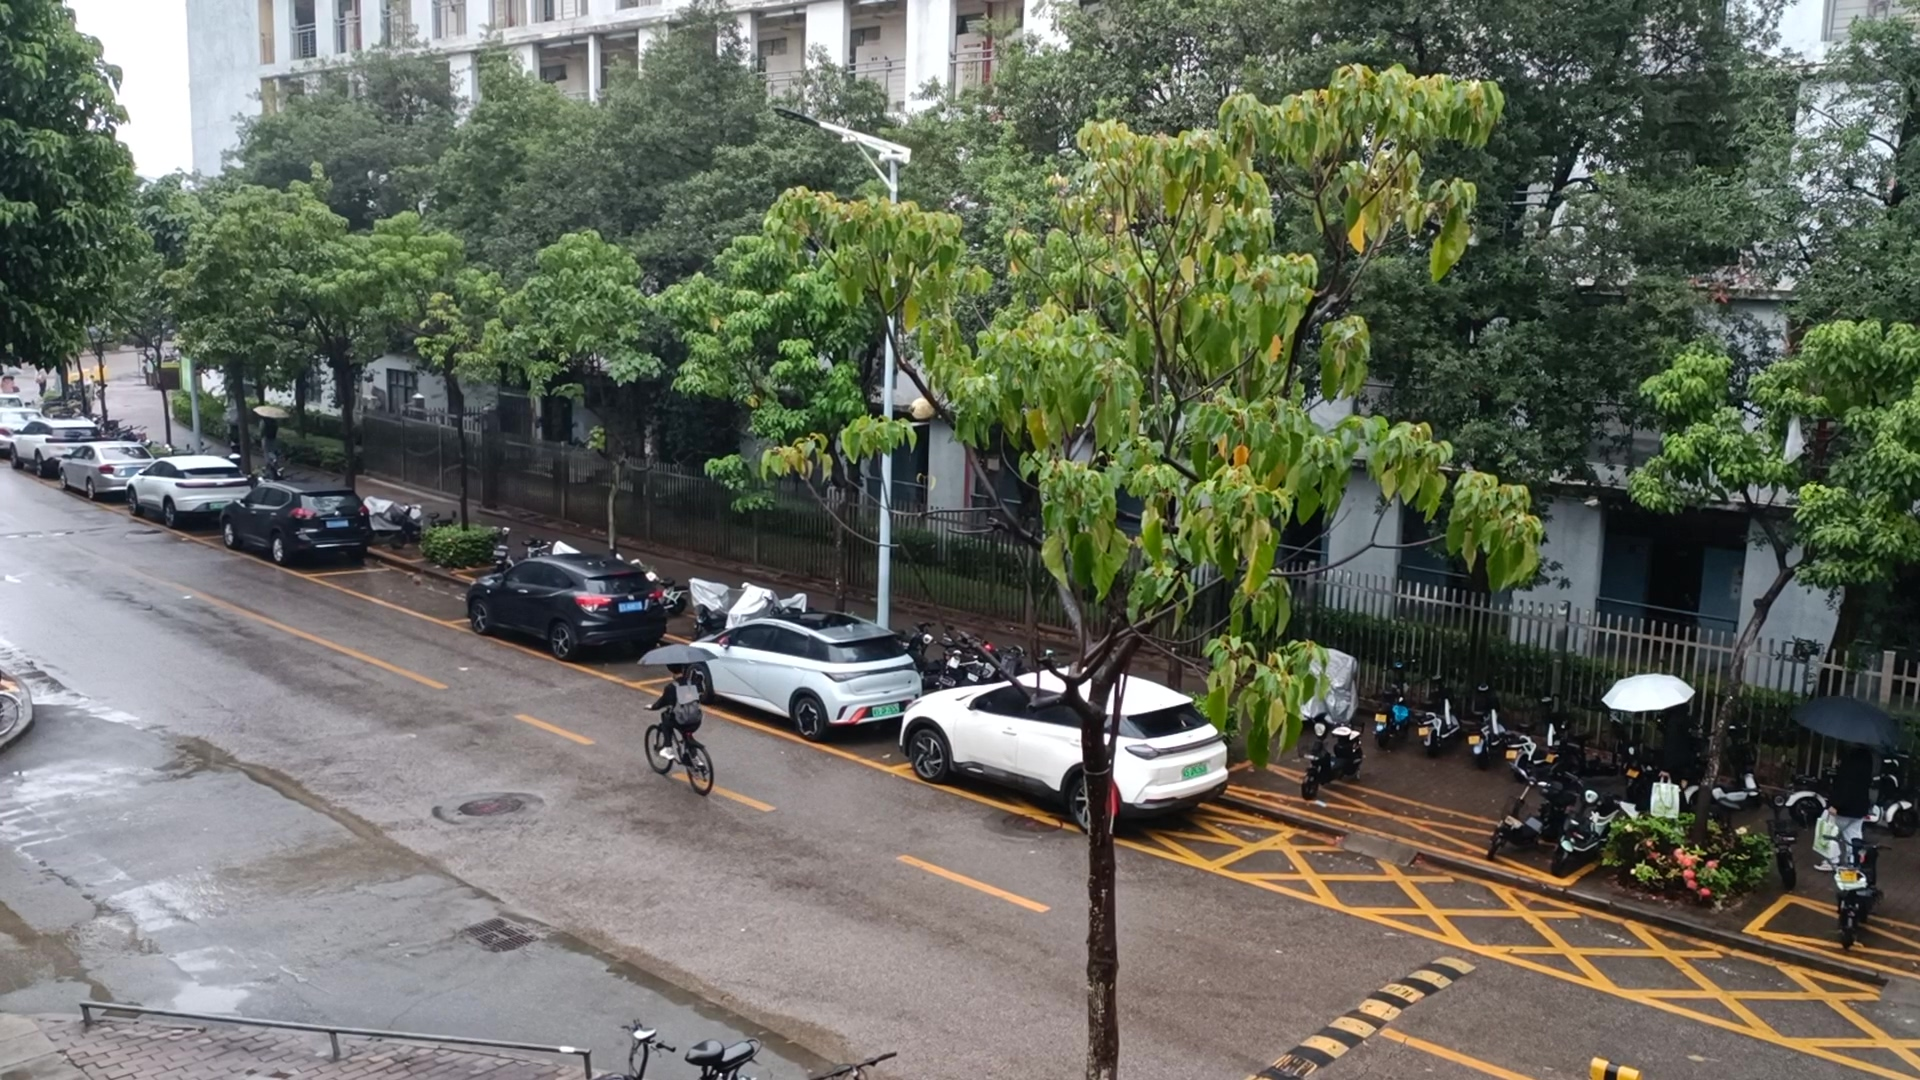space-empty: (305, 563, 505, 632)
space-occupied: (634, 661, 959, 773), (443, 601, 717, 688), (198, 534, 401, 580), (109, 498, 272, 543), (40, 469, 179, 512)
